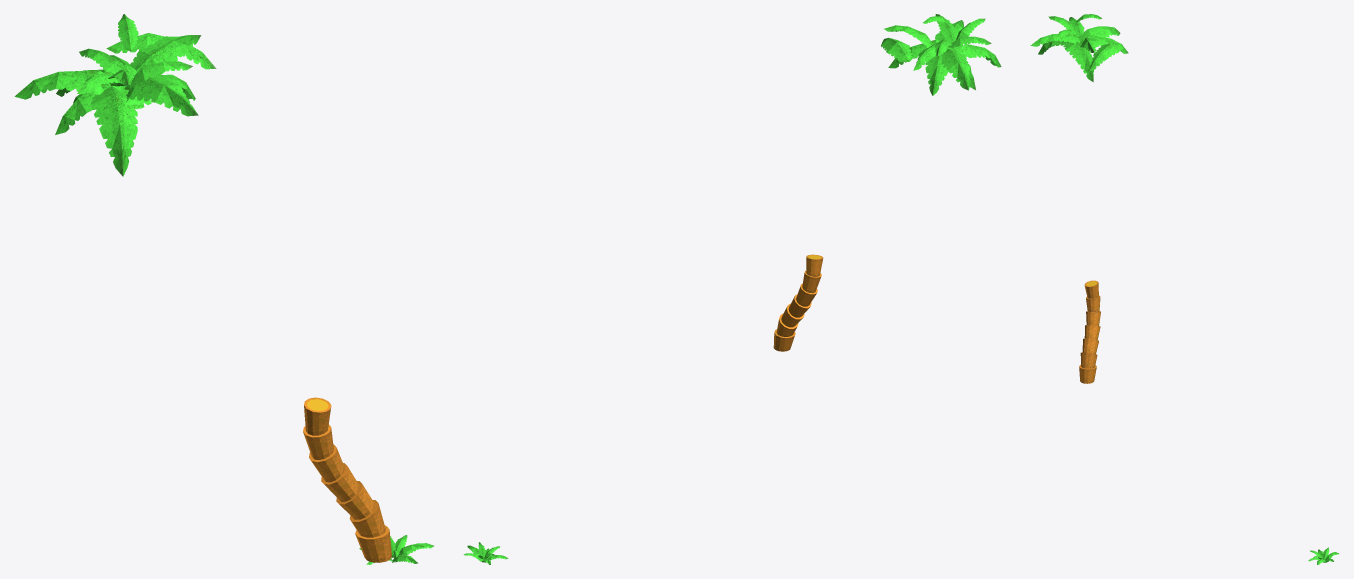
3 views of the same model, side by side, from view 1: azimuth 30°, elevation 25°; view 2: azimuth 150°, elevation 25°; view 3: azimuth 270°, elevation 25° (orthographic). The views are drawn at different scales.
Parts seen in each view (by area): view 1: palma tronco.017, Foglia.249, Foglia.254, Foglia.253, Foglia.251, Foglia.260, Foglia.250, Foglia.255, Foglia.262, Foglia.257, Foglia.258, Foglia.261; view 2: palma tronco.017, Foglia.251; view 3: palma tronco.017, Foglia.261, Foglia.260.
Boxes of the visible parts, x1,y1,x2,y2 form: palma tronco.017: [303, 397, 391, 562]; Foglia.249: [90, 86, 137, 176]; Foglia.254: [126, 76, 198, 116]; Foglia.253: [130, 35, 201, 75]; Foglia.251: [14, 70, 103, 99]; Foglia.260: [106, 33, 216, 69]; Foglia.250: [55, 73, 135, 134]; Foglia.255: [124, 61, 192, 90]; Foglia.262: [359, 535, 434, 564]; Foglia.257: [79, 48, 126, 73]; Foglia.258: [118, 14, 138, 51]; Foglia.261: [125, 74, 195, 108]; palma tronco.017: [773, 254, 823, 351]; Foglia.251: [941, 49, 969, 90]; palma tronco.017: [1079, 280, 1100, 383]; Foglia.261: [1061, 40, 1093, 82]; Foglia.260: [1089, 42, 1123, 71].
Size of the model in its own units: 228 by 295 by 194.
1 material, 1 textured.
